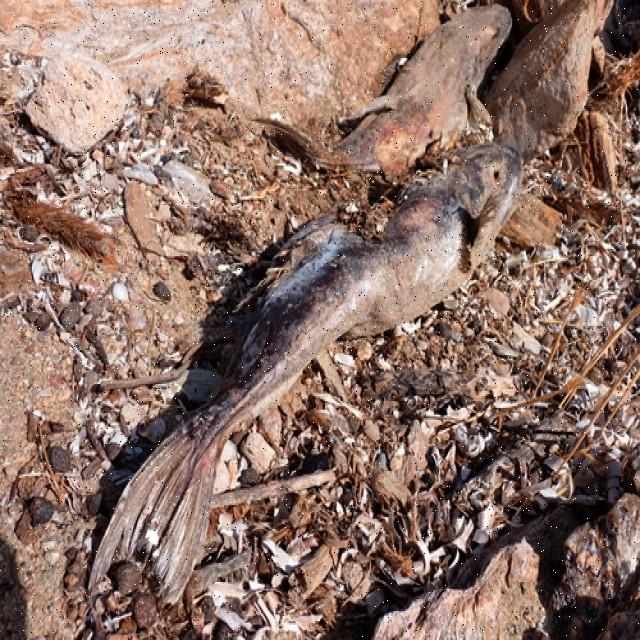Balik: (91, 143, 520, 601), (91, 143, 521, 597)
